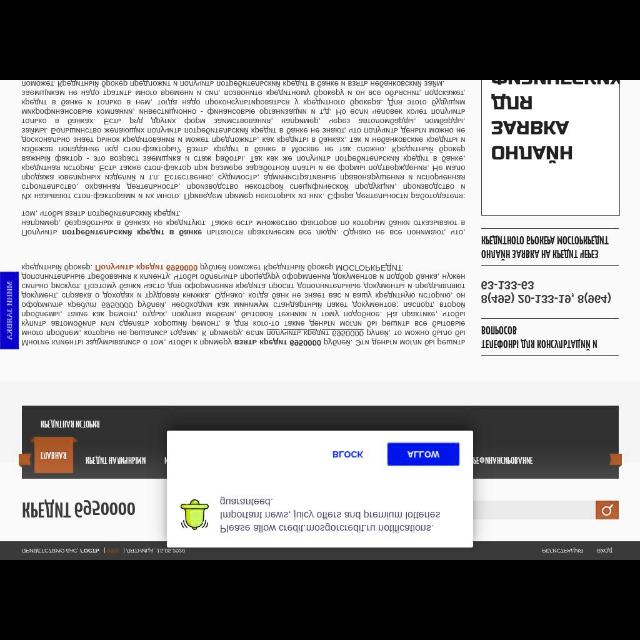button: (597, 501, 619, 519)
icon: (602, 503, 614, 515)
image: (180, 498, 210, 530)
input: (474, 501, 596, 519)
multitab: (22, 404, 620, 480)
panel: (167, 430, 473, 548)
text: (21, 81, 466, 201), (20, 262, 466, 346), (21, 210, 467, 236), (490, 80, 620, 164), (220, 497, 440, 533), (480, 234, 610, 262), (480, 280, 612, 304), (482, 325, 598, 351), (22, 499, 136, 518), (40, 419, 100, 428), (84, 456, 148, 464), (473, 456, 533, 464), (6, 280, 14, 340), (21, 547, 99, 553), (126, 547, 186, 553), (408, 449, 440, 458), (542, 548, 584, 554), (334, 450, 364, 458), (41, 451, 68, 459), (597, 546, 613, 554), (106, 547, 120, 553)
textbutton: (388, 442, 460, 466), (34, 436, 74, 472)
toolbar: (1, 540, 640, 560)
